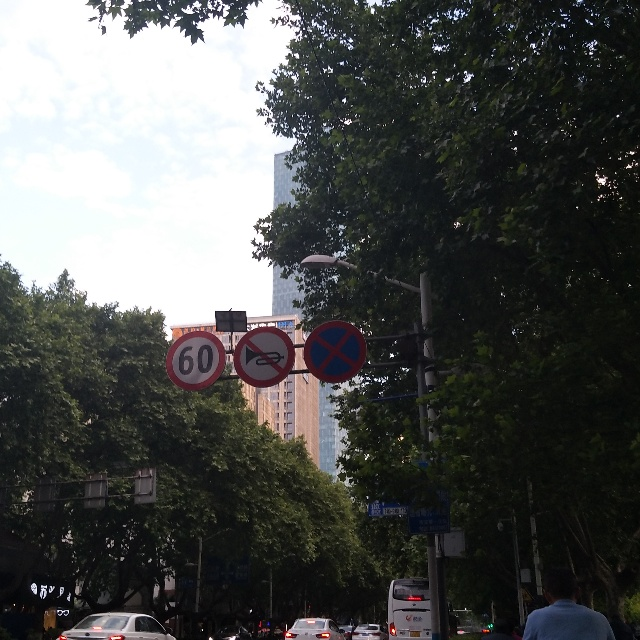nohonk: (244, 332, 287, 377)
stop: (312, 323, 370, 384)
